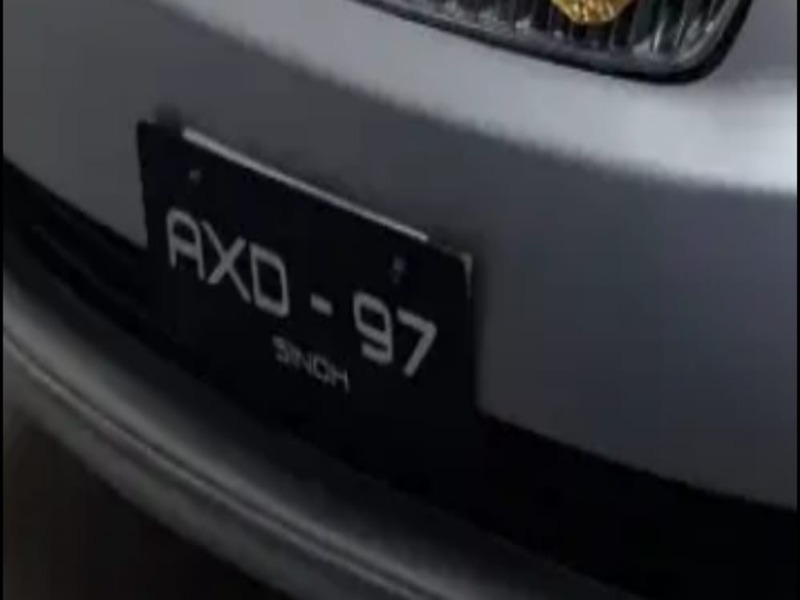License Plate: (136, 115, 476, 423)
